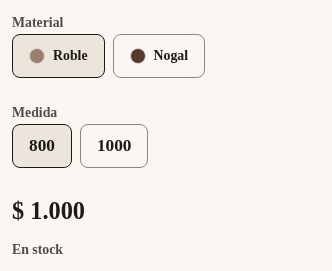
Scenario: ProductOptions › switching material updates the rendered price string (design D8's component-test requirement)
Expected: the text "$ 1.000" is shown, left=12, top=197, right=85, bottom=224
Click the radio button labelled "1000".
click(114, 146)  # box left=80, top=124, right=148, bottom=168
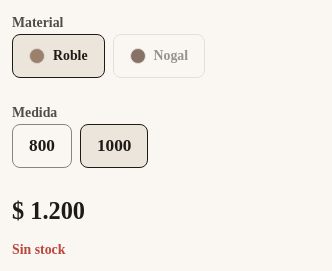
Now the text "$ 1.200" is shown, box left=12, top=197, right=85, bottom=224
Now the text "$ 1.000" is gone
